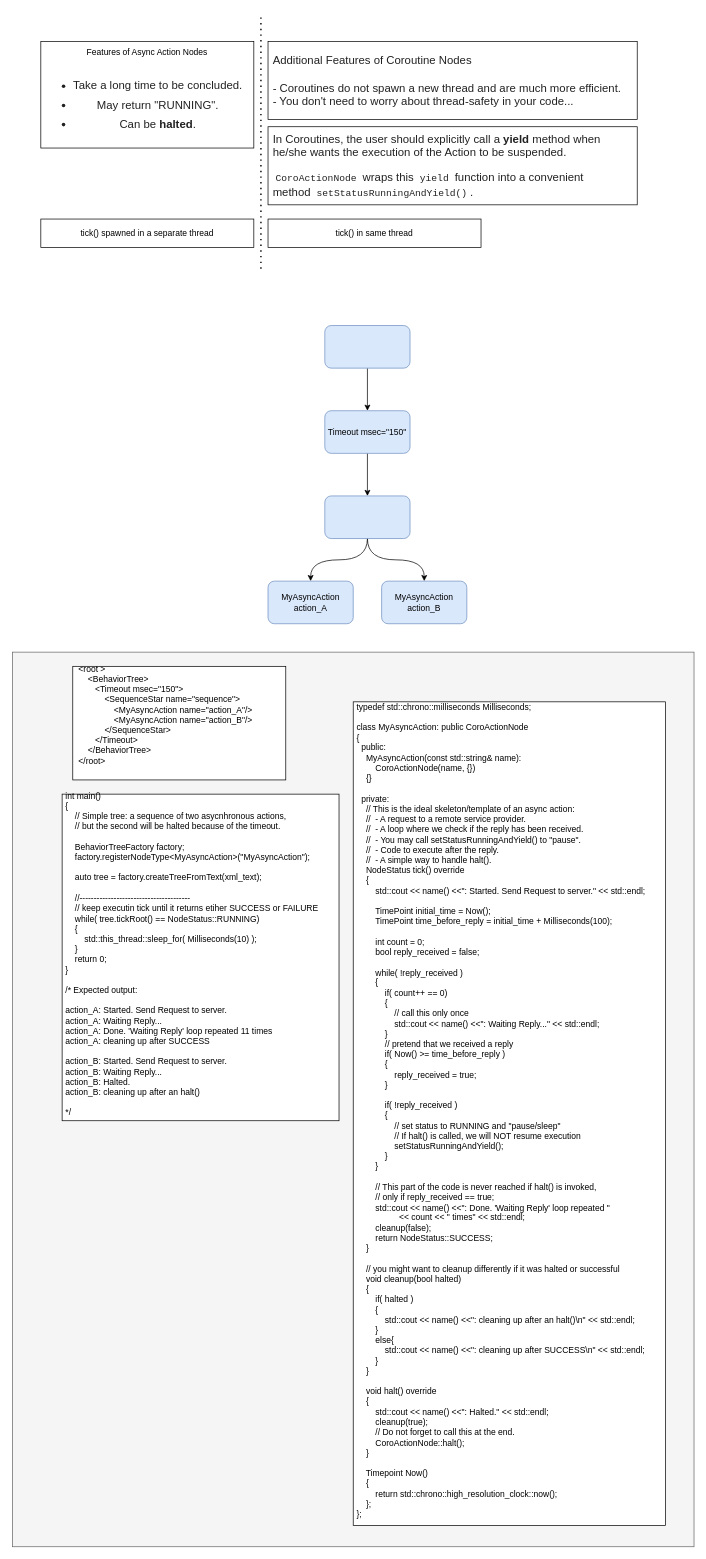
The diagram is 706 pixels wide and 1559 high, and some of its shapes have lost their labels. The shapes that lost their labels are listed below. From the top down, each one's centre as x and y in pixels, then its label:
(367,346): #BehaviorTee
(367,517): #sequencestar
